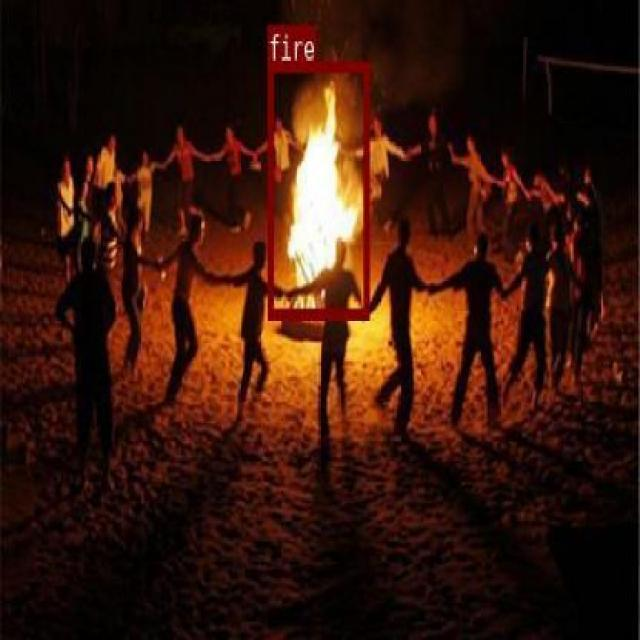Fire: (102, 189, 317, 257)
